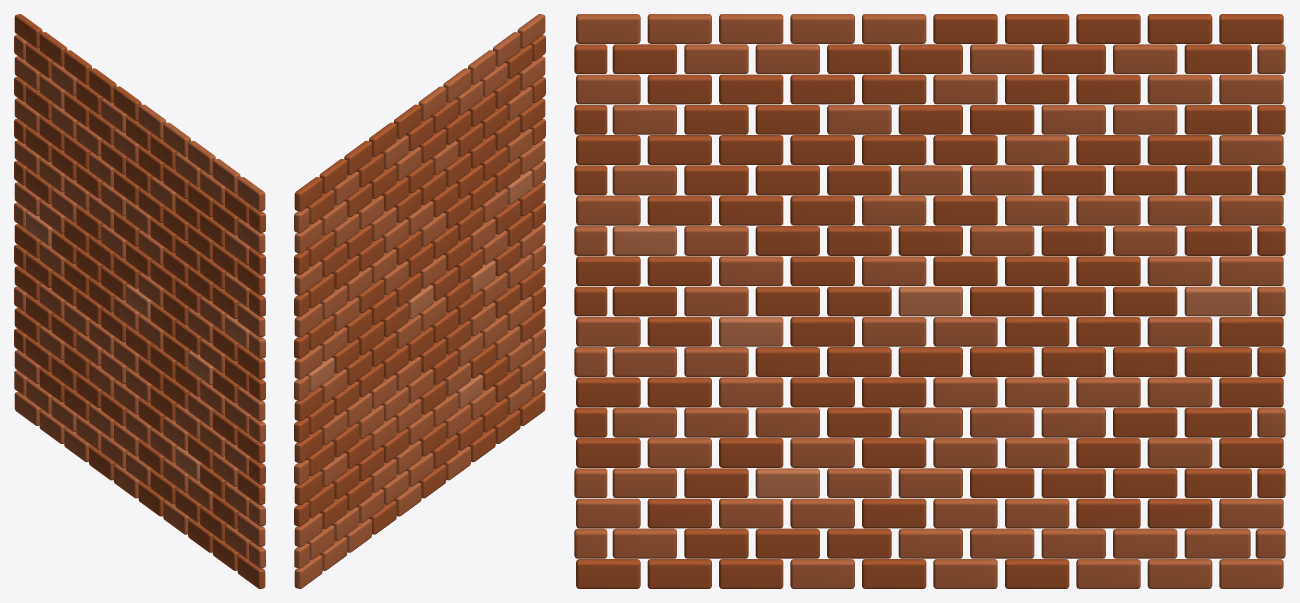
Rendered from SM_brick_wall.glb.
3 views of the same model, side by side, from view 1: azimuth 30°, elevation 25°; view 2: azimuth 150°, elevation 25°; view 3: azimuth 270°, elevation 25° (orthographic). The views are drawn at different scales.
Visible parts, largest first — view 1: SM_brick_wall; view 2: SM_brick_wall; view 3: SM_brick_wall.
Boxes of the visible parts, <box> form: SM_brick_wall: <box>14,14,265,588</box>; SM_brick_wall: <box>294,14,545,588</box>; SM_brick_wall: <box>574,14,1285,588</box>.
Size of the model in its own units: 0.076 by 4.04 by 4.54.
Materials: 1 (1 with a texture image).
